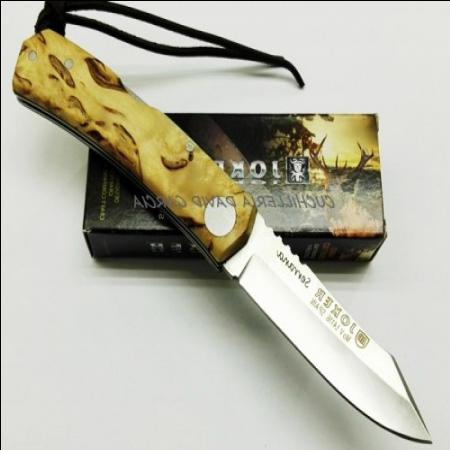long weapon: (217, 189, 437, 449)
